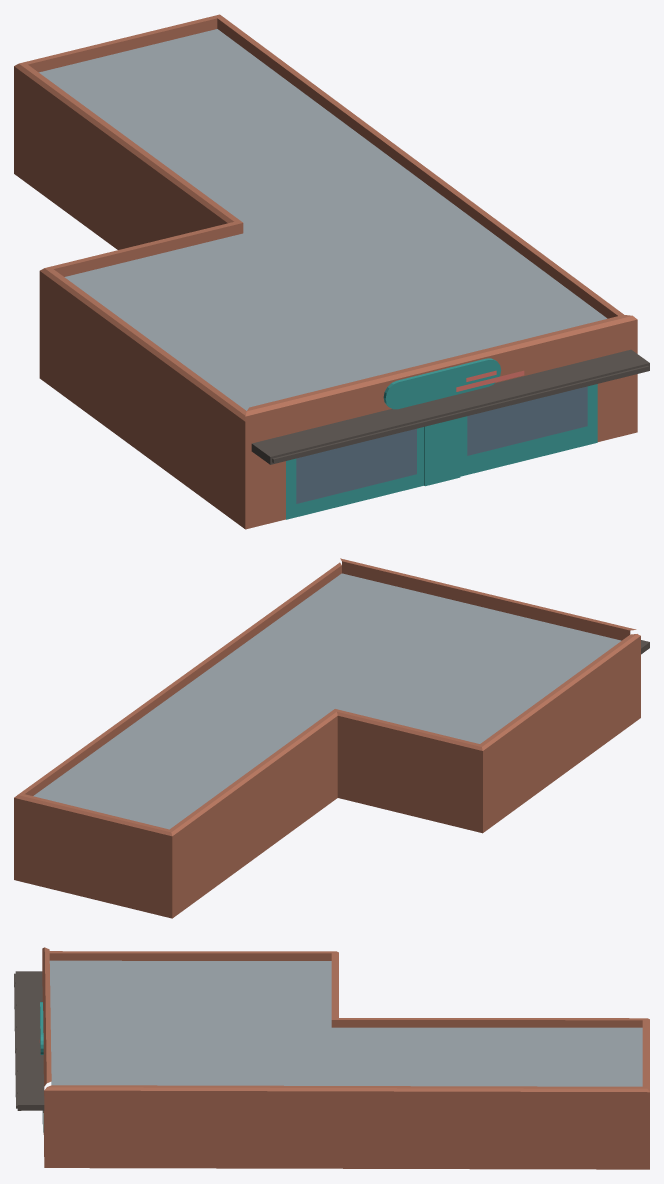
File: petras.glb
3 views of the same model, one above another, from view 1: azimuth 30°, elevation 25°; view 2: azimuth 150°, elevation 25°; view 3: azimuth 270°, elevation 25° (orthographic). The views are drawn at different scales.
Visible parts, largest first — view 1: Petra's; view 2: Petra's; view 3: Petra's.
Part boxes in pixels (x1,y1,x2,y2): Petra's: (14, 14, 649, 529); Petra's: (14, 558, 649, 918); Petra's: (14, 947, 649, 1169).
Bounding box in the file's own units: 15.79 × 4.4 × 30.36.
